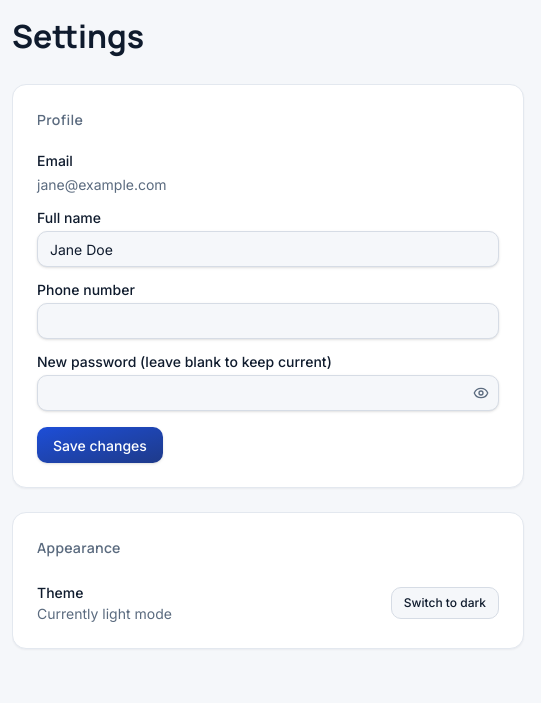
it: SettingsPage › loads and saves the personal profile form
The image size is (541, 703).
Expected: the field showing "Jane Doe" is shown, 37,231 -> 499,267
Click the button "Save changes" at (100, 445), box 37,427 -> 163,463
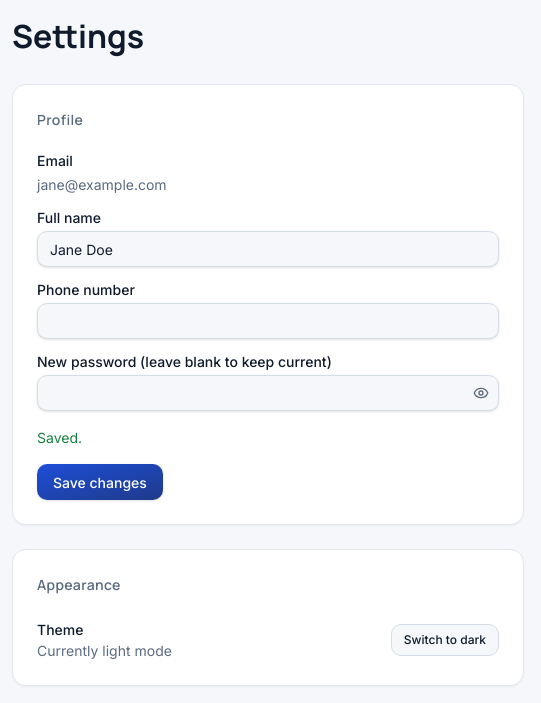
Result: the text "Saved." is shown at 37,429 -> 82,446
